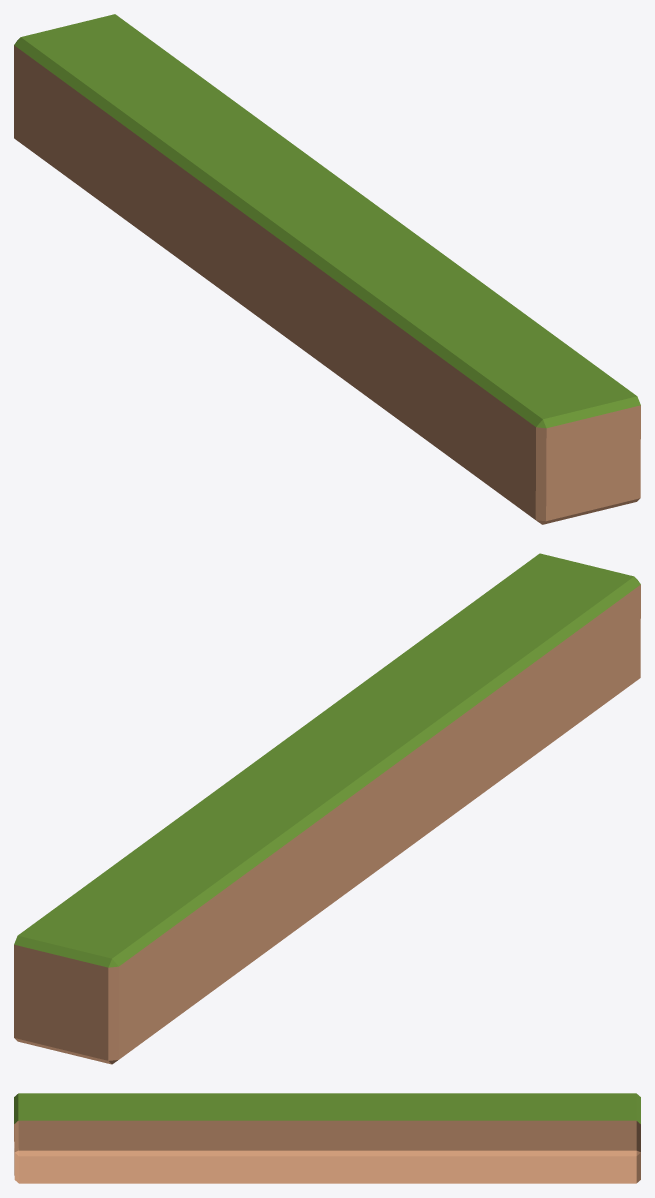
Rendered from chao_canto.fbx.
3 views of the same model, one above another, from view 1: azimuth 30°, elevation 25°; view 2: azimuth 150°, elevation 25°; view 3: azimuth 270°, elevation 25° (orthographic). The views are drawn at different scales.
Parts seen in each view (by area): view 1: Cube.004; view 2: Cube.004; view 3: Cube.004.
Boxes of the visible parts, box(x1,y1,x2,y2) form: Cube.004: box(14, 14, 640, 524); Cube.004: box(14, 553, 640, 1064); Cube.004: box(14, 1093, 640, 1183).
Size of the model in its own units: 1257 by 1257 by 11386.
Materials: 1 (1 with a texture image).
